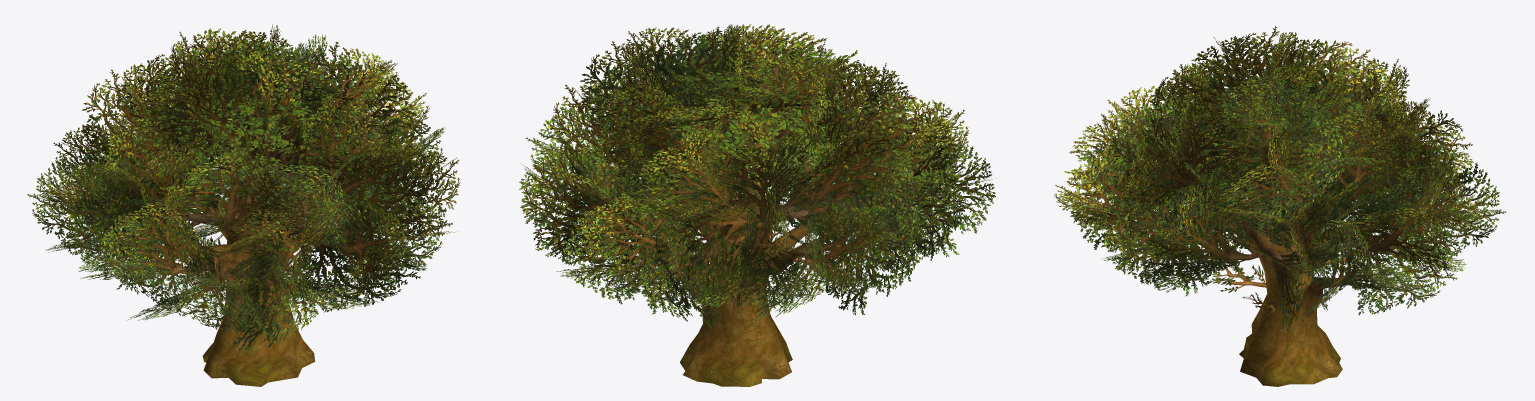
File: arbol3.obj
3 renders of one model, left to right at view 1: azimuth 30°, elevation 25°; view 2: azimuth 150°, elevation 25°; view 3: azimuth 270°, elevation 25°, orthographic. The views are drawn at different scales.
Visible parts, largest first — view 1: arbol10:Geoset1, arbol10:Geoset0arbol3; view 2: arbol10:Geoset1, arbol10:Geoset0arbol3; view 3: arbol10:Geoset1, arbol10:Geoset0arbol3.
Boxes of the visible parts, bbox=[...] form: arbol10:Geoset1: bbox=[27, 24, 460, 357]; arbol10:Geoset0arbol3: bbox=[124, 176, 315, 386]; arbol10:Geoset1: bbox=[519, 24, 995, 329]; arbol10:Geoset0arbol3: bbox=[612, 169, 915, 386]; arbol10:Geoset1: bbox=[1054, 26, 1506, 333]; arbol10:Geoset0arbol3: bbox=[1190, 189, 1393, 386].
Size of the model in its own units: 59.4 by 44.85 by 60.73.
Materials: 2 (2 with a texture image).
